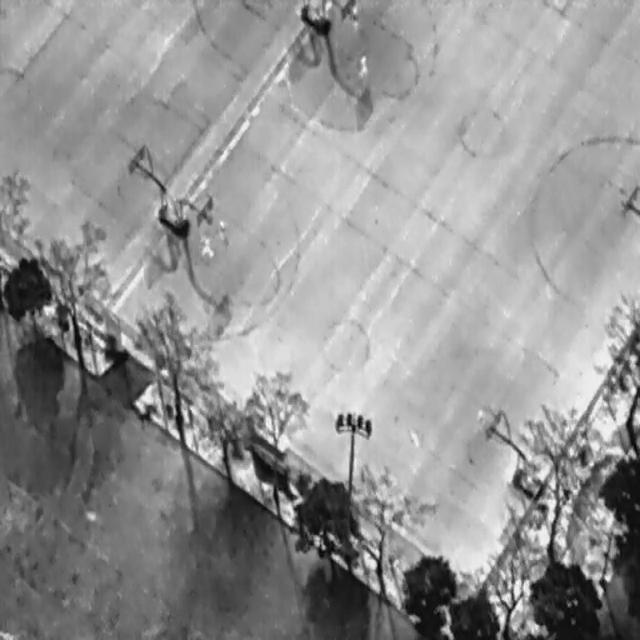Person: (201, 232, 214, 258), (216, 216, 226, 246), (350, 2, 359, 28), (359, 50, 367, 79)
